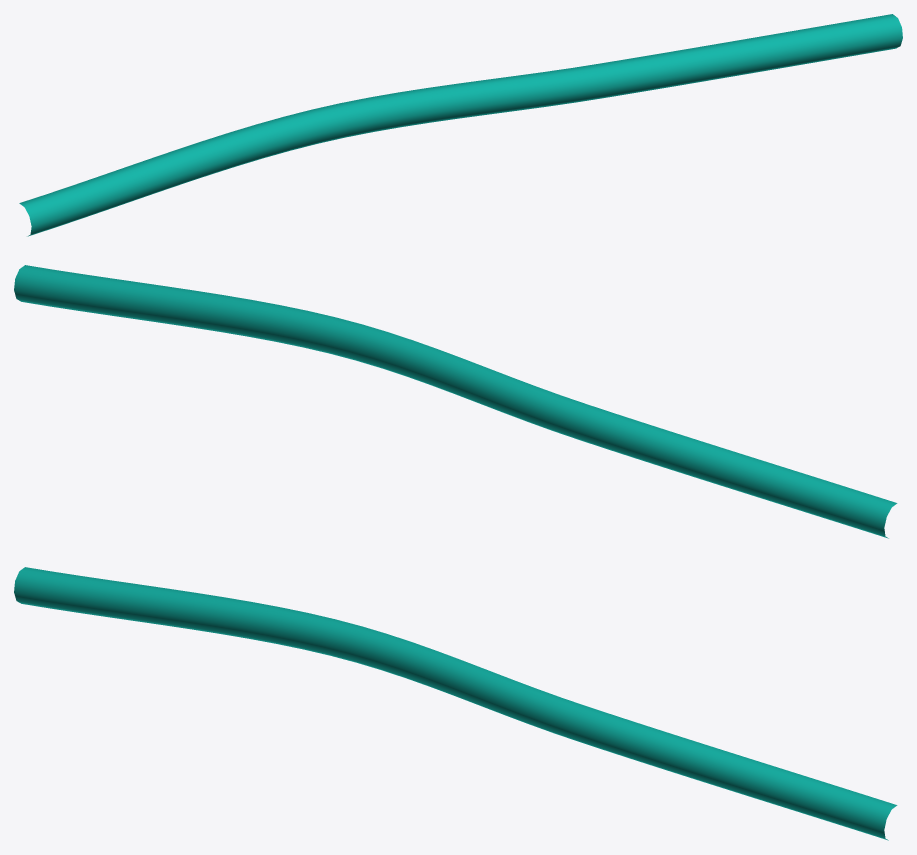
Rendered from fiber-cable.glb.
3 views of the same model, one above another, from view 1: azimuth 30°, elevation 25°; view 2: azimuth 150°, elevation 25°; view 3: azimuth 330°, elevation 25° (orthographic). The views are drawn at different scales.
Bounding box in the file's own units: 2 × 0.1242 × 0.1883.
Materials: 1 (1 with a texture image).
